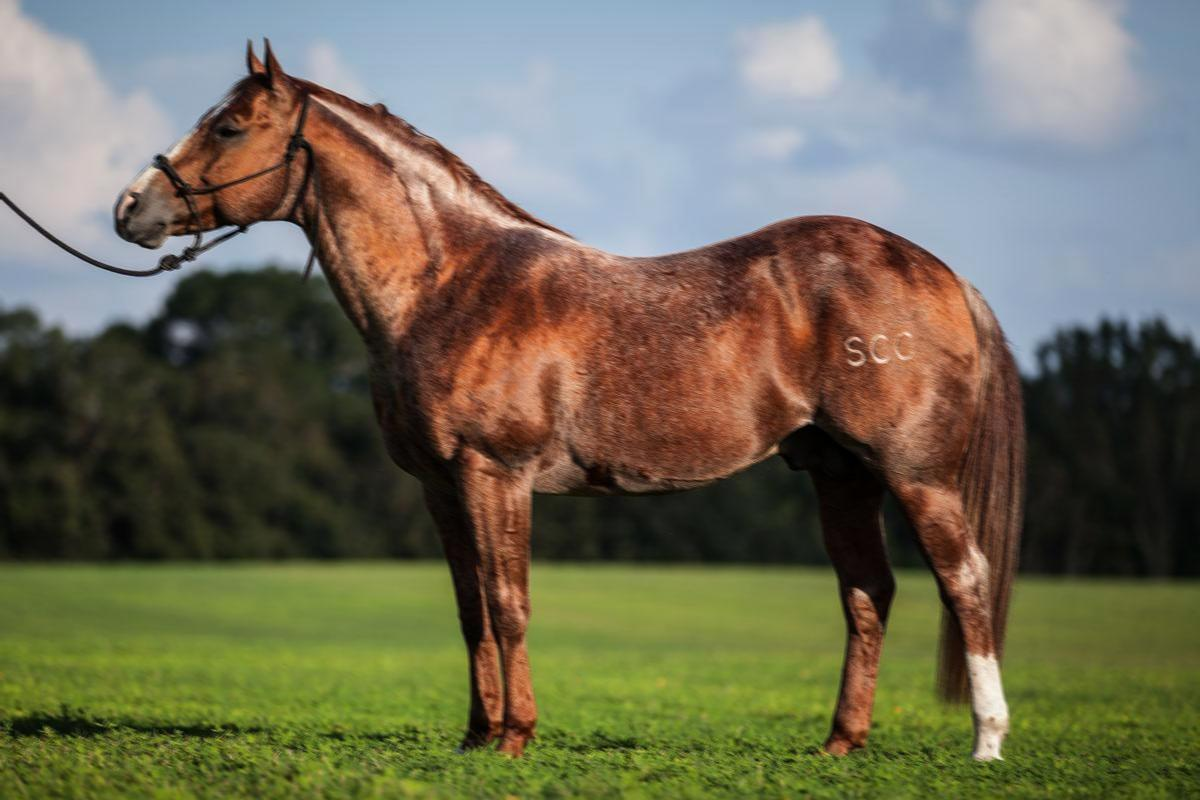horse: (104, 25, 1042, 776)
